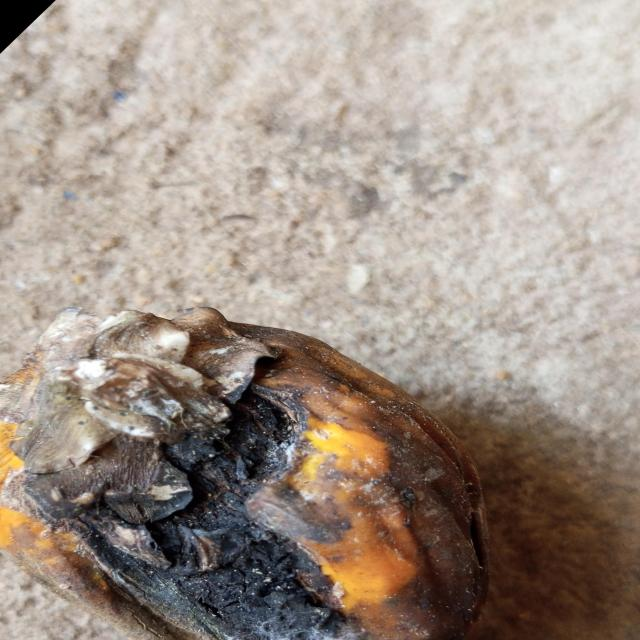damaged: (0, 307, 548, 640)
